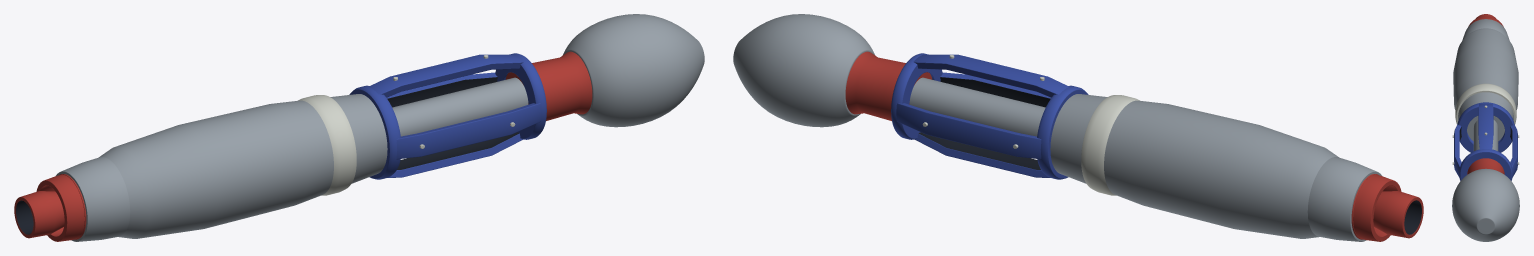
The picture shows the model from 3 angles, left to right: view 1: azimuth 30°, elevation 25°; view 2: azimuth 150°, elevation 25°; view 3: azimuth 270°, elevation 25°; orthographic projection. The views are drawn at different scales.
Parts seen in each view (by area): view 1: TI100 / Meat Eater lower silver pressure casing, TI100 / Meat Eater rounded gray head, TI100 / Meat Eater central silver spine, TI100 / Meat Eater hollow gray tail seat, TI100 / Meat Eater blue open frame sector.001, TI100 / Meat Eater red upper coupling, TI100 / Meat Eater blue open frame sector.002, TI100 / Meat Eater pale body band, TI100 / Meat Eater blue open frame sector, TI100 / Meat Eater hollow red nozzle, TI100 / Meat Eater red tail sleeve, TI100 / Meat Eater blue open frame sector.003 (+2 smaller); view 2: TI100 / Meat Eater lower silver pressure casing, TI100 / Meat Eater rounded gray head, TI100 / Meat Eater central silver spine, TI100 / Meat Eater hollow gray tail seat, TI100 / Meat Eater blue open frame sector.003, TI100 / Meat Eater red upper coupling, TI100 / Meat Eater blue open frame sector.002, TI100 / Meat Eater pale body band, TI100 / Meat Eater blue open frame sector, TI100 / Meat Eater hollow red nozzle, TI100 / Meat Eater red tail sleeve, TI100 / Meat Eater blue open frame sector.001 (+2 smaller); view 3: TI100 / Meat Eater lower silver pressure casing, TI100 / Meat Eater rounded gray head, TI100 / Meat Eater blue lower frame ring, TI100 / Meat Eater blue upper frame ring, TI100 / Meat Eater blue open frame sector.002, TI100 / Meat Eater pale body band, TI100 / Meat Eater hollow gray tail seat, TI100 / Meat Eater red upper coupling, TI100 / Meat Eater central silver spine, TI100 / Meat Eater blue open frame sector.001, TI100 / Meat Eater blue open frame sector.003, TI100 / Meat Eater red tail sleeve (+1 smaller).
Boxes of the visible parts, bbox=[...] form: TI100 / Meat Eater lower silver pressure casing: bbox=[99, 94, 387, 238]; TI100 / Meat Eater rounded gray head: bbox=[563, 14, 704, 127]; TI100 / Meat Eater central silver spine: bbox=[392, 77, 528, 136]; TI100 / Meat Eater hollow gray tail seat: bbox=[56, 157, 130, 241]; TI100 / Meat Eater blue open frame sector.001: bbox=[396, 103, 541, 159]; TI100 / Meat Eater red upper coupling: bbox=[505, 51, 592, 120]; TI100 / Meat Eater blue open frame sector.002: bbox=[368, 54, 524, 97]; TI100 / Meat Eater pale body band: bbox=[298, 95, 356, 195]; TI100 / Meat Eater blue open frame sector: bbox=[388, 132, 523, 177]; TI100 / Meat Eater hollow red nozzle: bbox=[14, 191, 64, 238]; TI100 / Meat Eater red tail sleeve: bbox=[36, 174, 84, 241]; TI100 / Meat Eater blue open frame sector.003: bbox=[386, 72, 497, 107]; TI100 / Meat Eater lower silver pressure casing: bbox=[1050, 94, 1338, 238]; TI100 / Meat Eater rounded gray head: bbox=[733, 14, 874, 127]; TI100 / Meat Eater central silver spine: bbox=[909, 77, 1045, 136]; TI100 / Meat Eater hollow gray tail seat: bbox=[1307, 157, 1381, 241]; TI100 / Meat Eater blue open frame sector.003: bbox=[896, 103, 1041, 159]; TI100 / Meat Eater red upper coupling: bbox=[845, 51, 932, 120]; TI100 / Meat Eater blue open frame sector.002: bbox=[913, 54, 1069, 97]; TI100 / Meat Eater pale body band: bbox=[1081, 95, 1139, 195]; TI100 / Meat Eater blue open frame sector: bbox=[914, 132, 1049, 177]; TI100 / Meat Eater hollow red nozzle: bbox=[1373, 191, 1423, 238]; TI100 / Meat Eater red tail sleeve: bbox=[1353, 174, 1401, 241]; TI100 / Meat Eater blue open frame sector.001: bbox=[940, 72, 1051, 107]; TI100 / Meat Eater lower silver pressure casing: bbox=[1453, 28, 1518, 140]; TI100 / Meat Eater rounded gray head: bbox=[1452, 168, 1519, 241]; TI100 / Meat Eater blue lower frame ring: bbox=[1457, 102, 1514, 152]; TI100 / Meat Eater blue upper frame ring: bbox=[1459, 149, 1512, 180]; TI100 / Meat Eater blue open frame sector.002: bbox=[1478, 103, 1493, 149]; TI100 / Meat Eater pale body band: bbox=[1455, 83, 1516, 124]; TI100 / Meat Eater hollow gray tail seat: bbox=[1462, 19, 1509, 40]; TI100 / Meat Eater red upper coupling: bbox=[1467, 158, 1504, 174]; TI100 / Meat Eater central silver spine: bbox=[1473, 120, 1498, 150]; TI100 / Meat Eater blue open frame sector.001: bbox=[1454, 124, 1461, 177]; TI100 / Meat Eater blue open frame sector.003: bbox=[1510, 124, 1517, 177]; TI100 / Meat Eater red tail sleeve: bbox=[1468, 16, 1503, 26].
Bounding box in the file's own units: 6.24 × 0.8889 × 0.8889.
